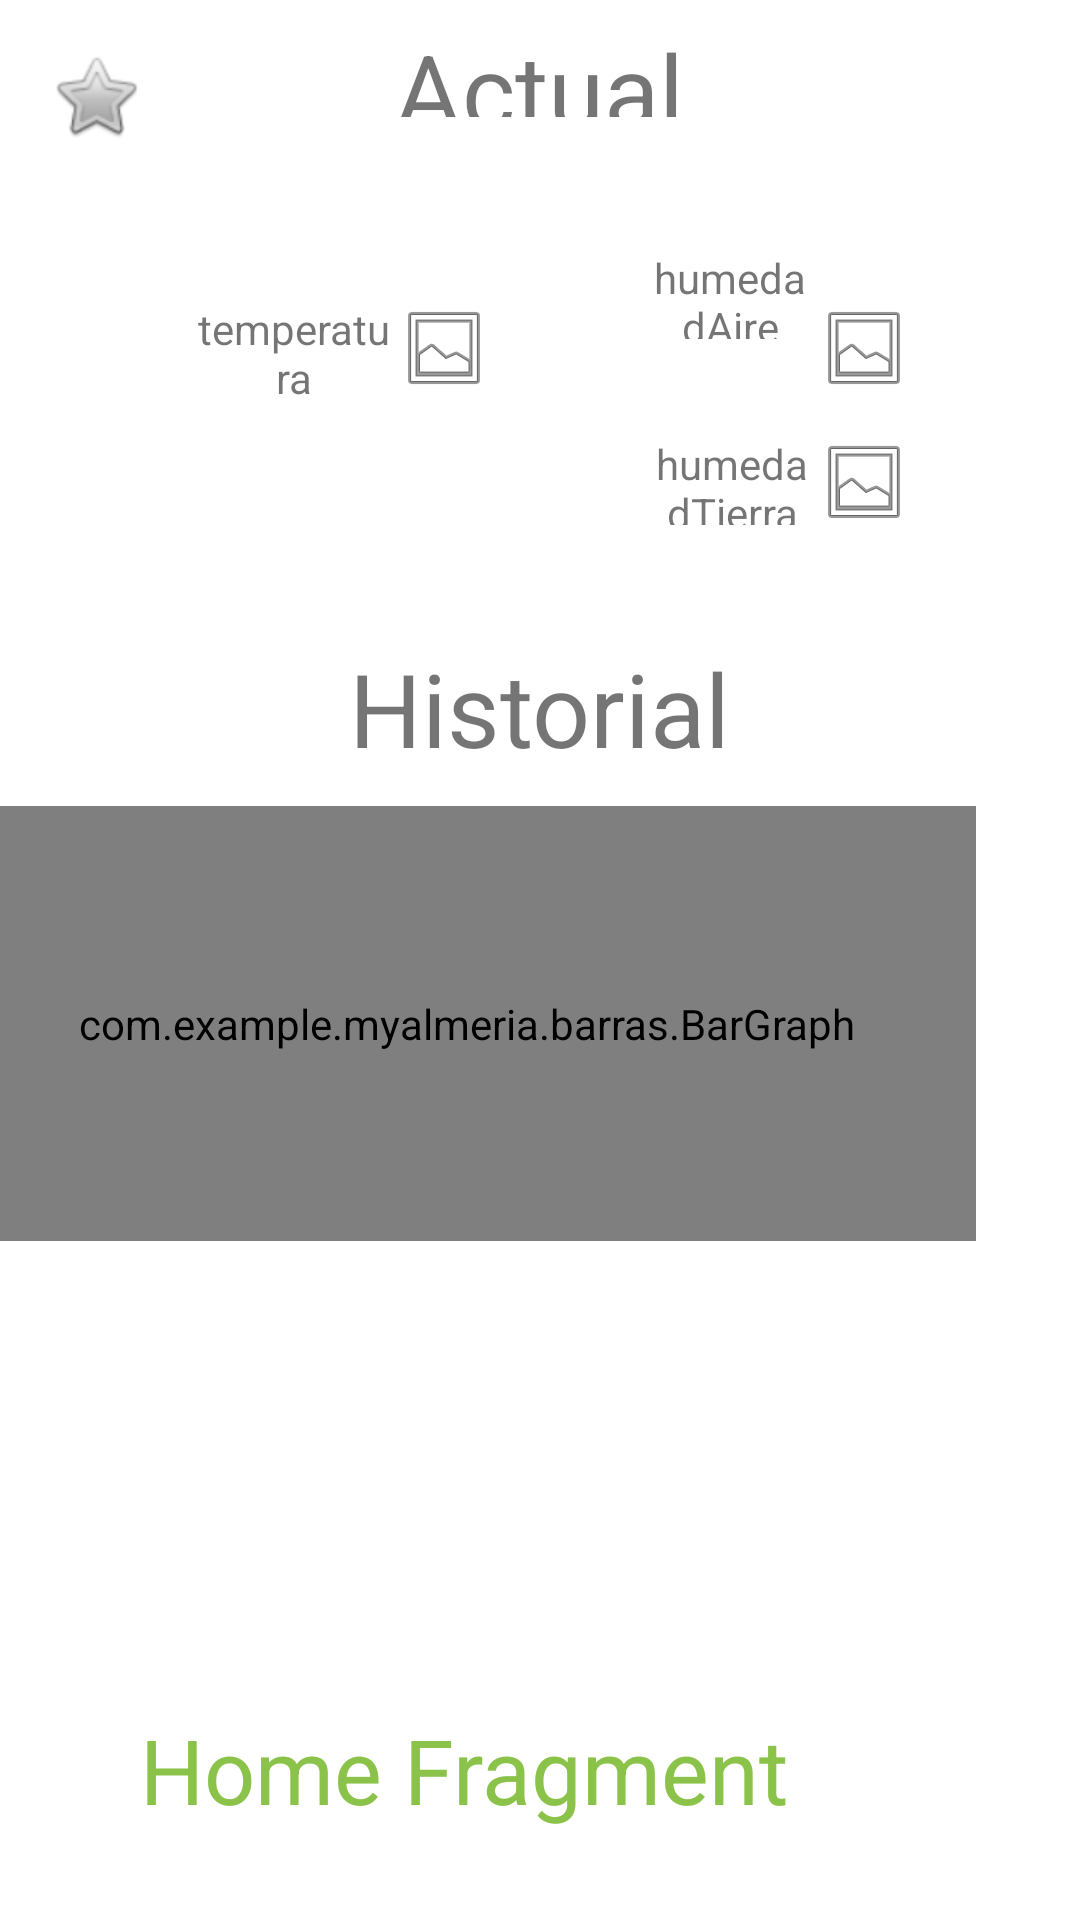

Locate icon controls on the screen. Image size 1080px×1920px, boxes as (x1, y1, x2, y2).
gallery: (408, 312, 480, 384), (828, 312, 900, 384), (828, 446, 900, 518)
star: (57, 58, 137, 136)
